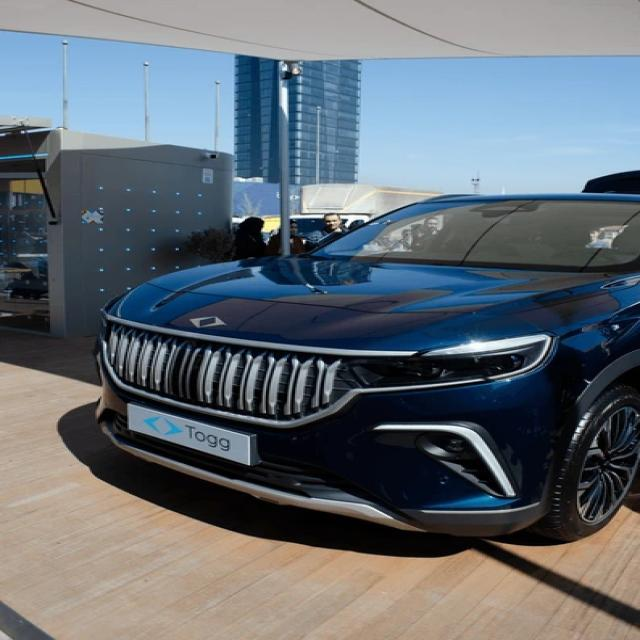togg: (132, 414, 184, 443), (186, 312, 238, 334)
